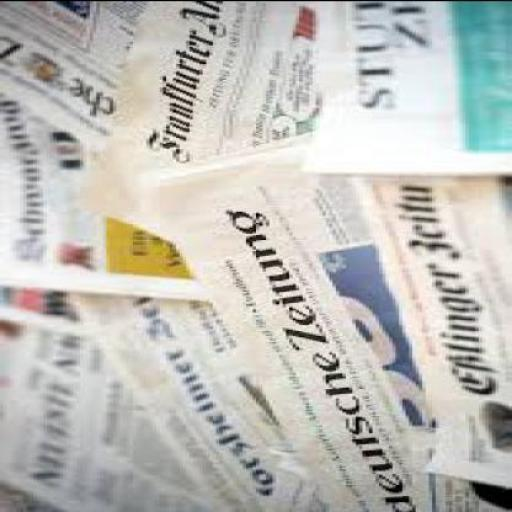paper: (126, 132, 510, 510), (70, 290, 330, 511), (73, 2, 312, 240), (346, 175, 508, 490), (0, 92, 217, 302), (309, 2, 509, 174), (0, 331, 165, 511), (0, 0, 154, 143), (0, 288, 94, 330)
